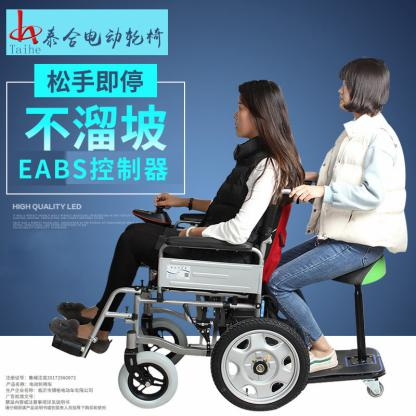wheelchair: (66, 79, 307, 405)
